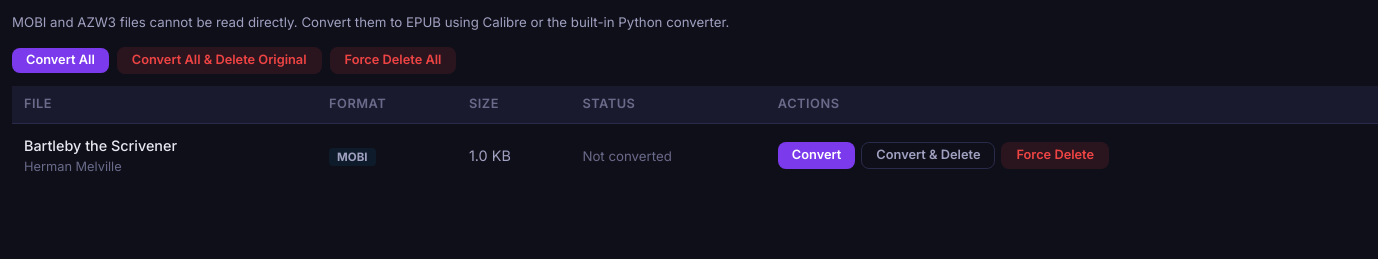
Test case: UnsupportedFilesPanel — sync map after conversion › lists per-pair re-align failures after Convert All
The image size is (1378, 259).
Expected: the text "Bartleby the Scrivener" is shown, x1=24 y1=136 x2=177 y2=154
Click the button "Convert All & Delete Original": (219,61) x1=117 y1=47 x2=322 y2=74
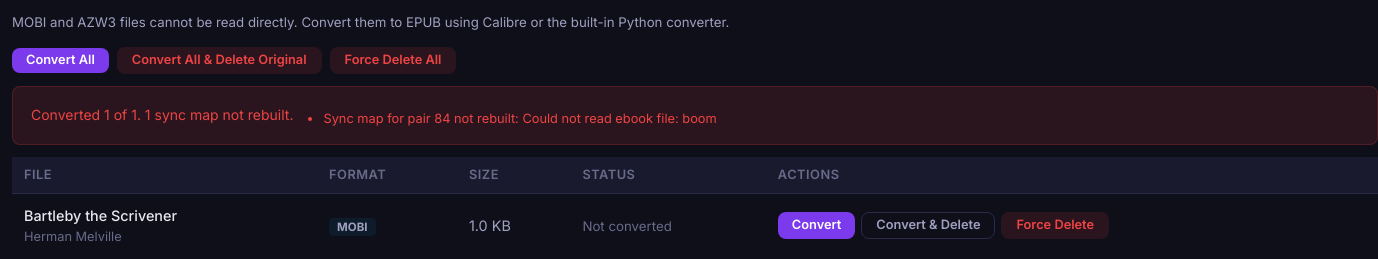
Result: the list item "pair 84" is shown at x1=323 y1=109 x2=717 y2=130
Result: the list item "pair 84" shows "Could not read ebook file" at x1=522 y1=111 x2=717 y2=126
